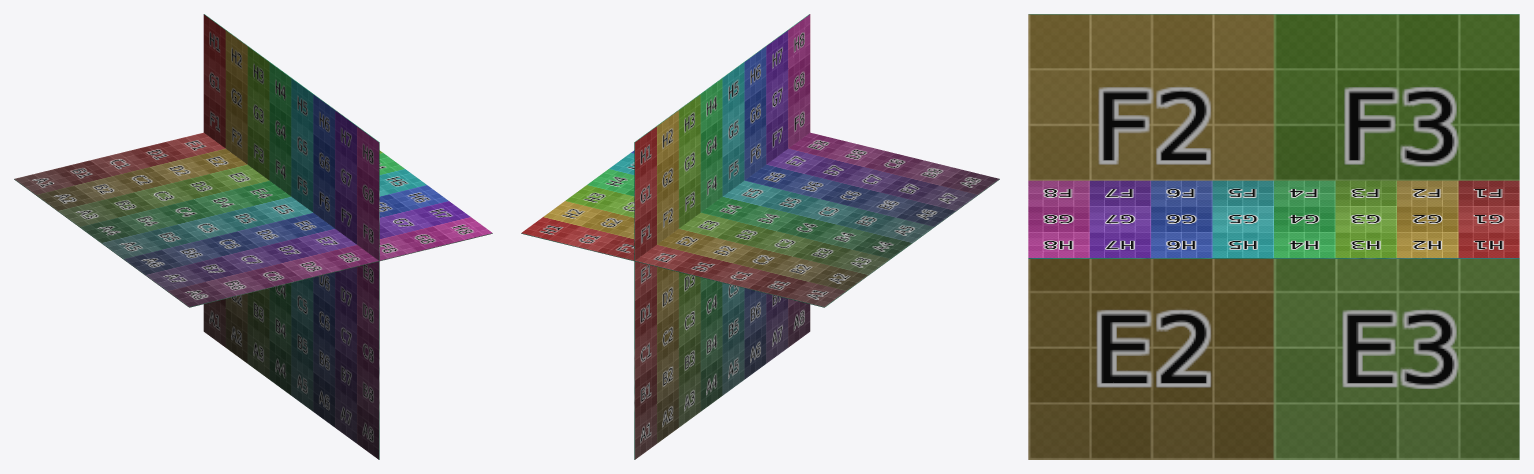
Rendered from field.gltf.
3 views of the same model, side by side, from view 1: azimuth 30°, elevation 25°; view 2: azimuth 150°, elevation 25°; view 3: azimuth 270°, elevation 25° (orthographic). The views are drawn at different scales.
Visible parts, largest first — view 1: Cube, Cube.001; view 2: Cube, Cube.001; view 3: Cube, Cube.001.
Part boxes in pixels (left/top/right/bottom): Cube: left=203, top=14, right=379, bottom=459; Cube.001: left=14, top=132, right=492, bottom=307; Cube: left=634, top=14, right=810, bottom=459; Cube.001: left=521, top=132, right=999, bottom=307; Cube: left=1028, top=14, right=1519, bottom=459; Cube.001: left=1028, top=180, right=1519, bottom=258.
Bounding box in the file's own units: 500 × 500 × 500.
2 materials, 2 textured.
